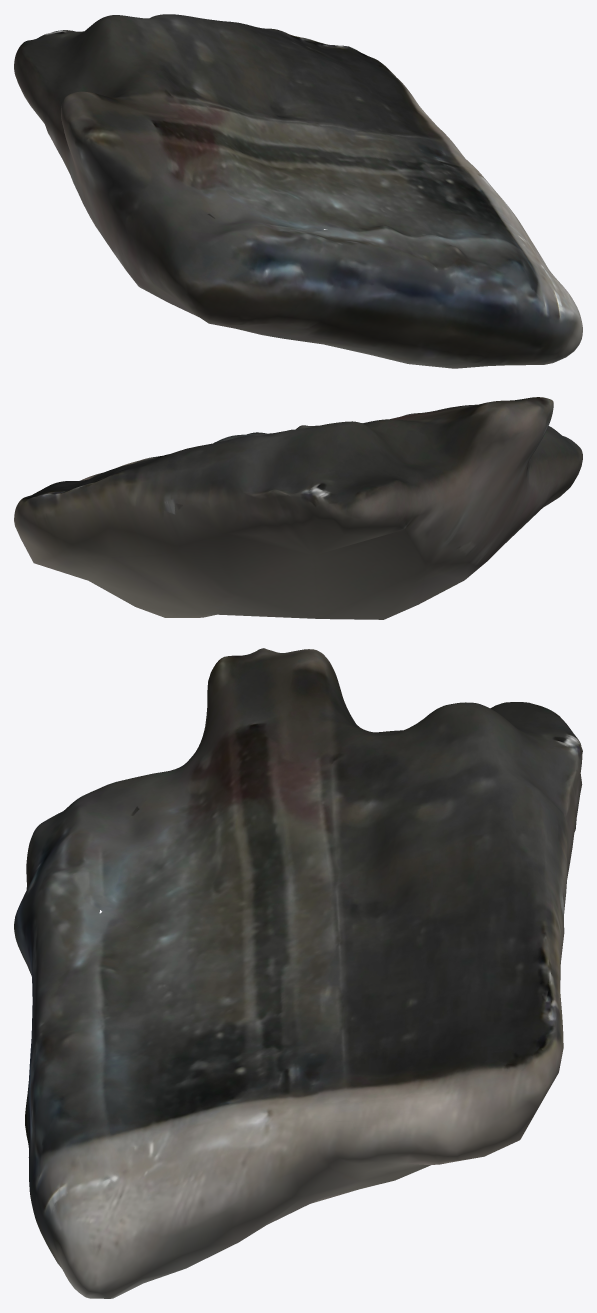
The picture shows the model from 3 angles, top to bottom: view 1: azimuth 30°, elevation 25°; view 2: azimuth 150°, elevation 25°; view 3: azimuth 270°, elevation 25°; orthographic projection. The views are drawn at different scales.
Bounding box in the file's own units: 0.3591 × 0.2389 × 0.3053.
Materials: 1 (1 with a texture image).
